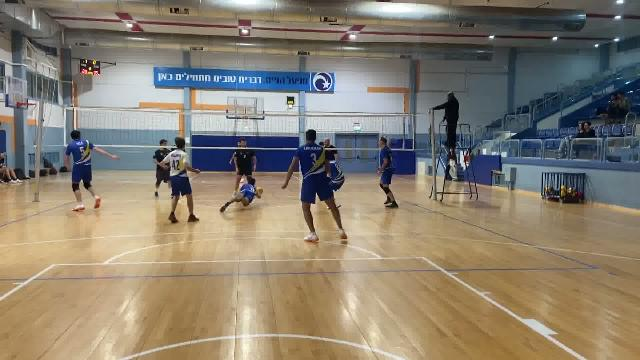ball: (252, 184, 267, 200)
